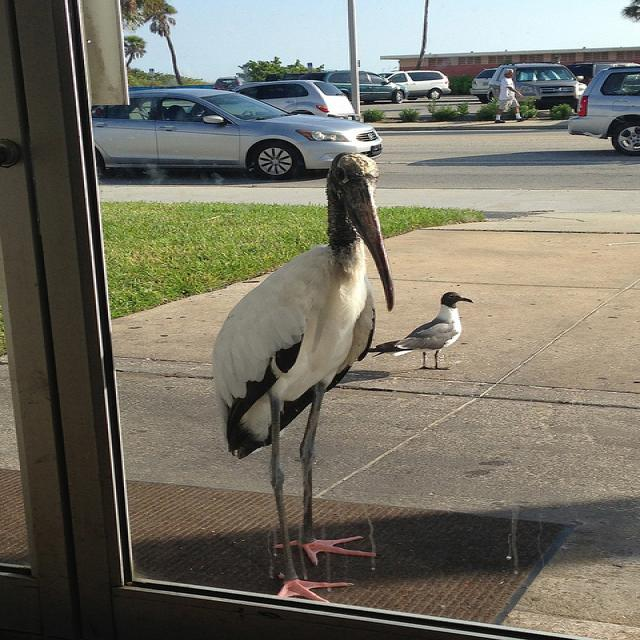Vehicle: (90, 88, 385, 183), (568, 67, 640, 156), (238, 79, 358, 121), (487, 62, 587, 109), (326, 71, 405, 101), (387, 70, 452, 100), (568, 60, 639, 85), (469, 65, 497, 104)
